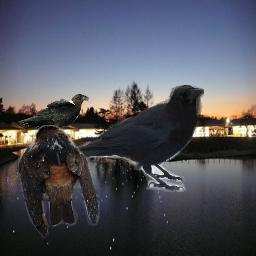Crow: (58, 85, 204, 192), (17, 93, 91, 138)
Swallow: (18, 125, 100, 238)
